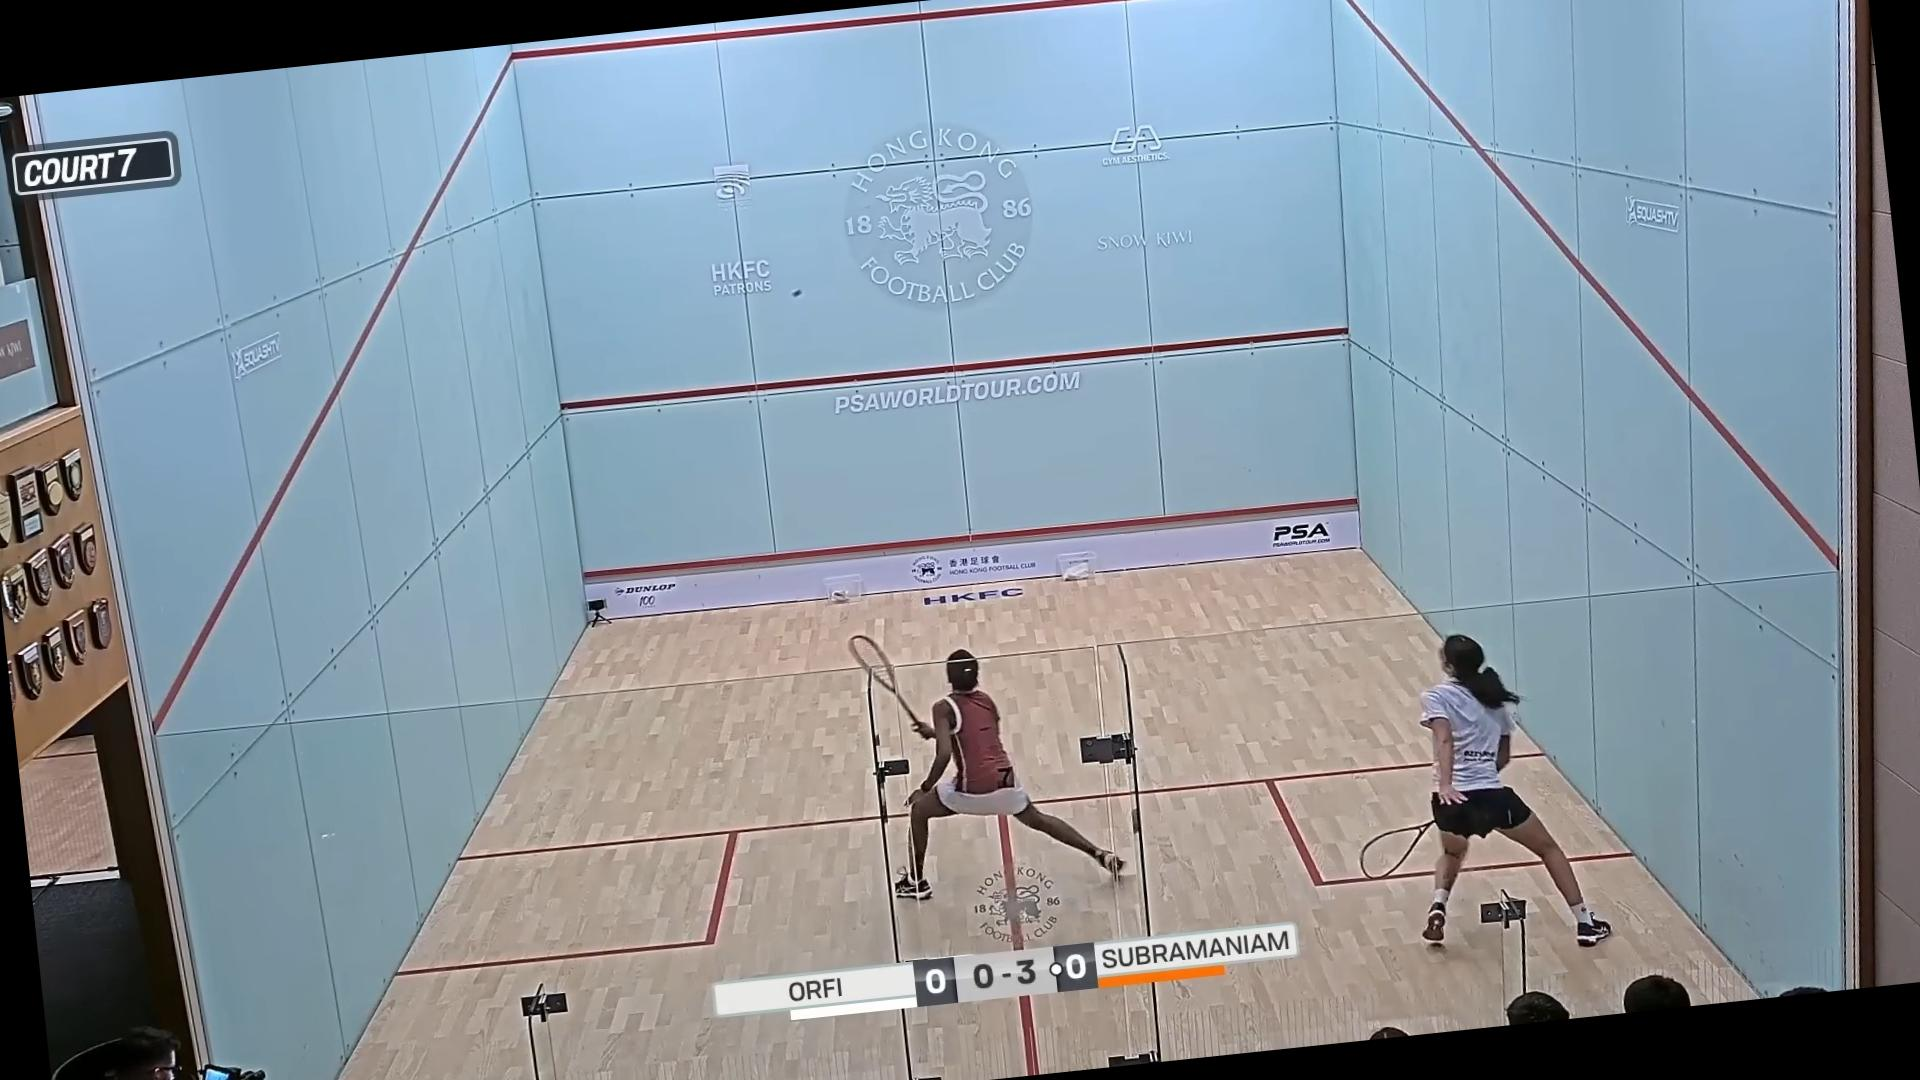Squash-Ball: (782, 282, 811, 309)
